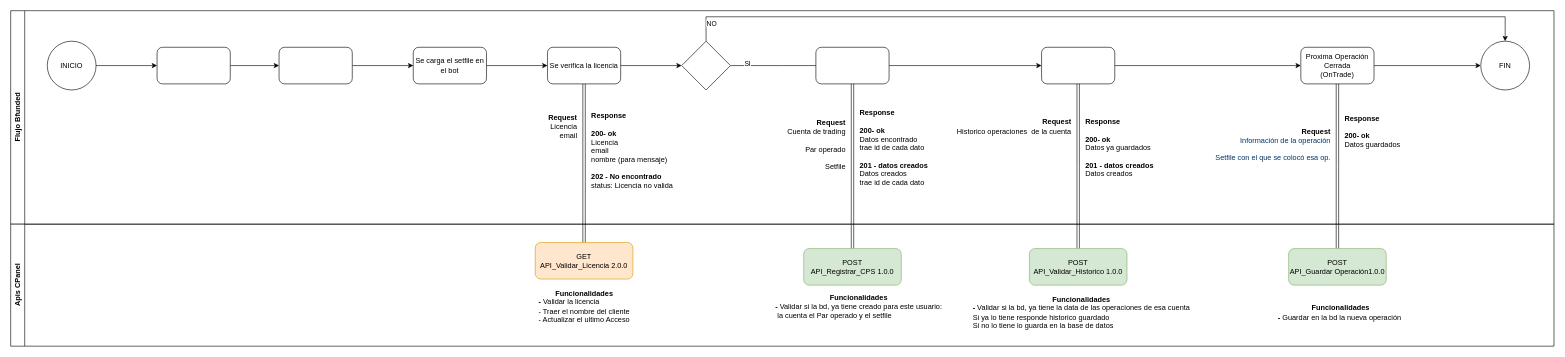
This 1565x357 diagram has some shape labels left out. Here are the shapes that lost their labels. From the top down, the box of each, then its label:
(156, 47, 230, 84): Se selecciona el par
(278, 47, 352, 84): Se instala el bot en el par
(681, 41, 730, 90): licencia valida?
(815, 47, 889, 84): Registrar cuenta Registrar par: Registrar setfile:
(1041, 47, 1115, 84): Verificar Operaciones en la cuenta:
